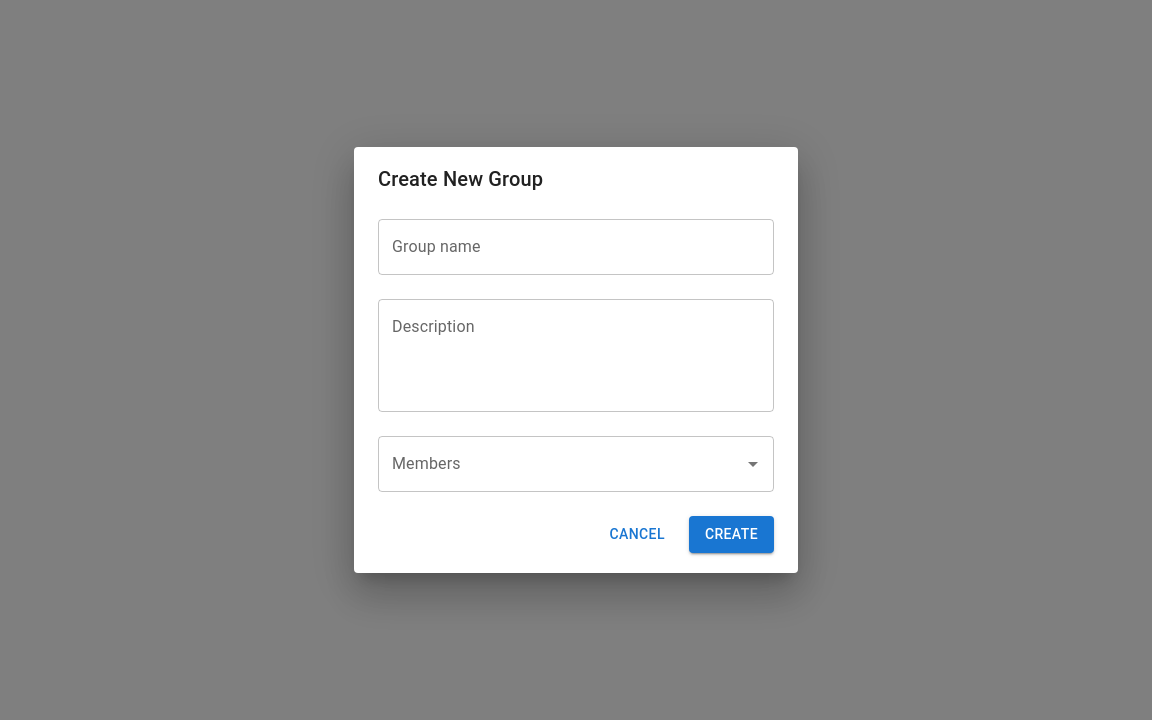
Test: CreateGroup › validates group name and at least one member
Click the button with aria-label "Create group".
click(731, 535)  # box [689,516,774,553]
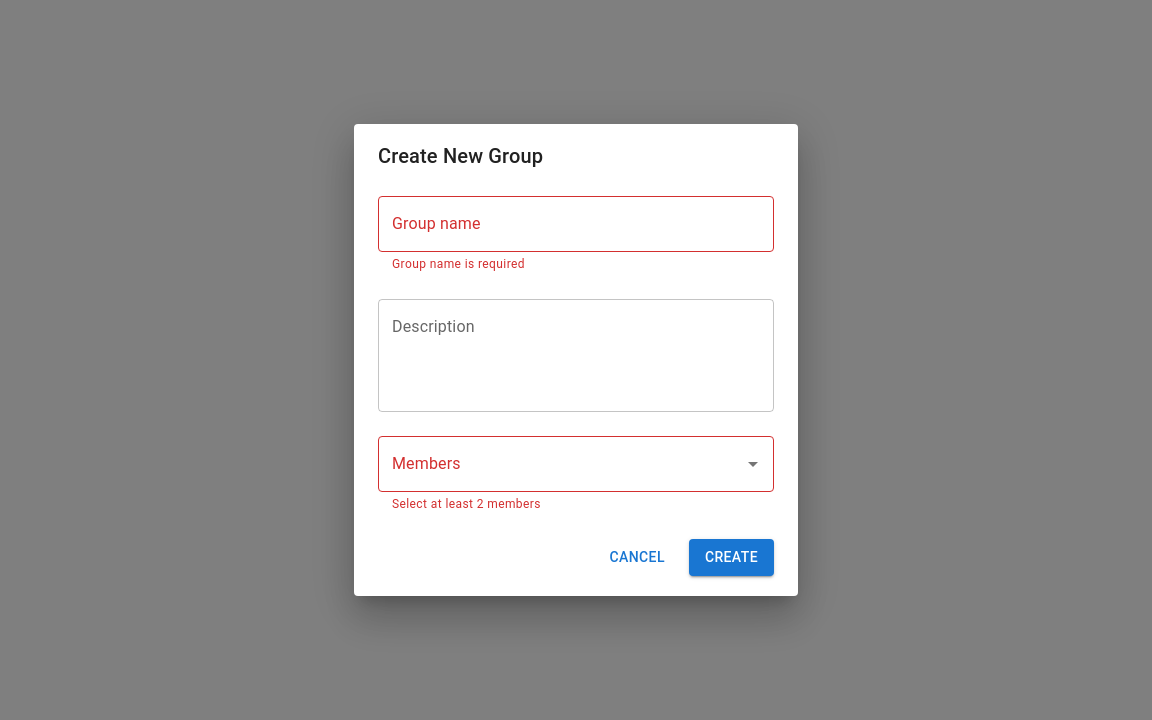
Expected: the text "Group name is required" is shown, [392,257,525,271]
Expected: the text "Select at least 2 members" is shown, [392,497,541,511]
